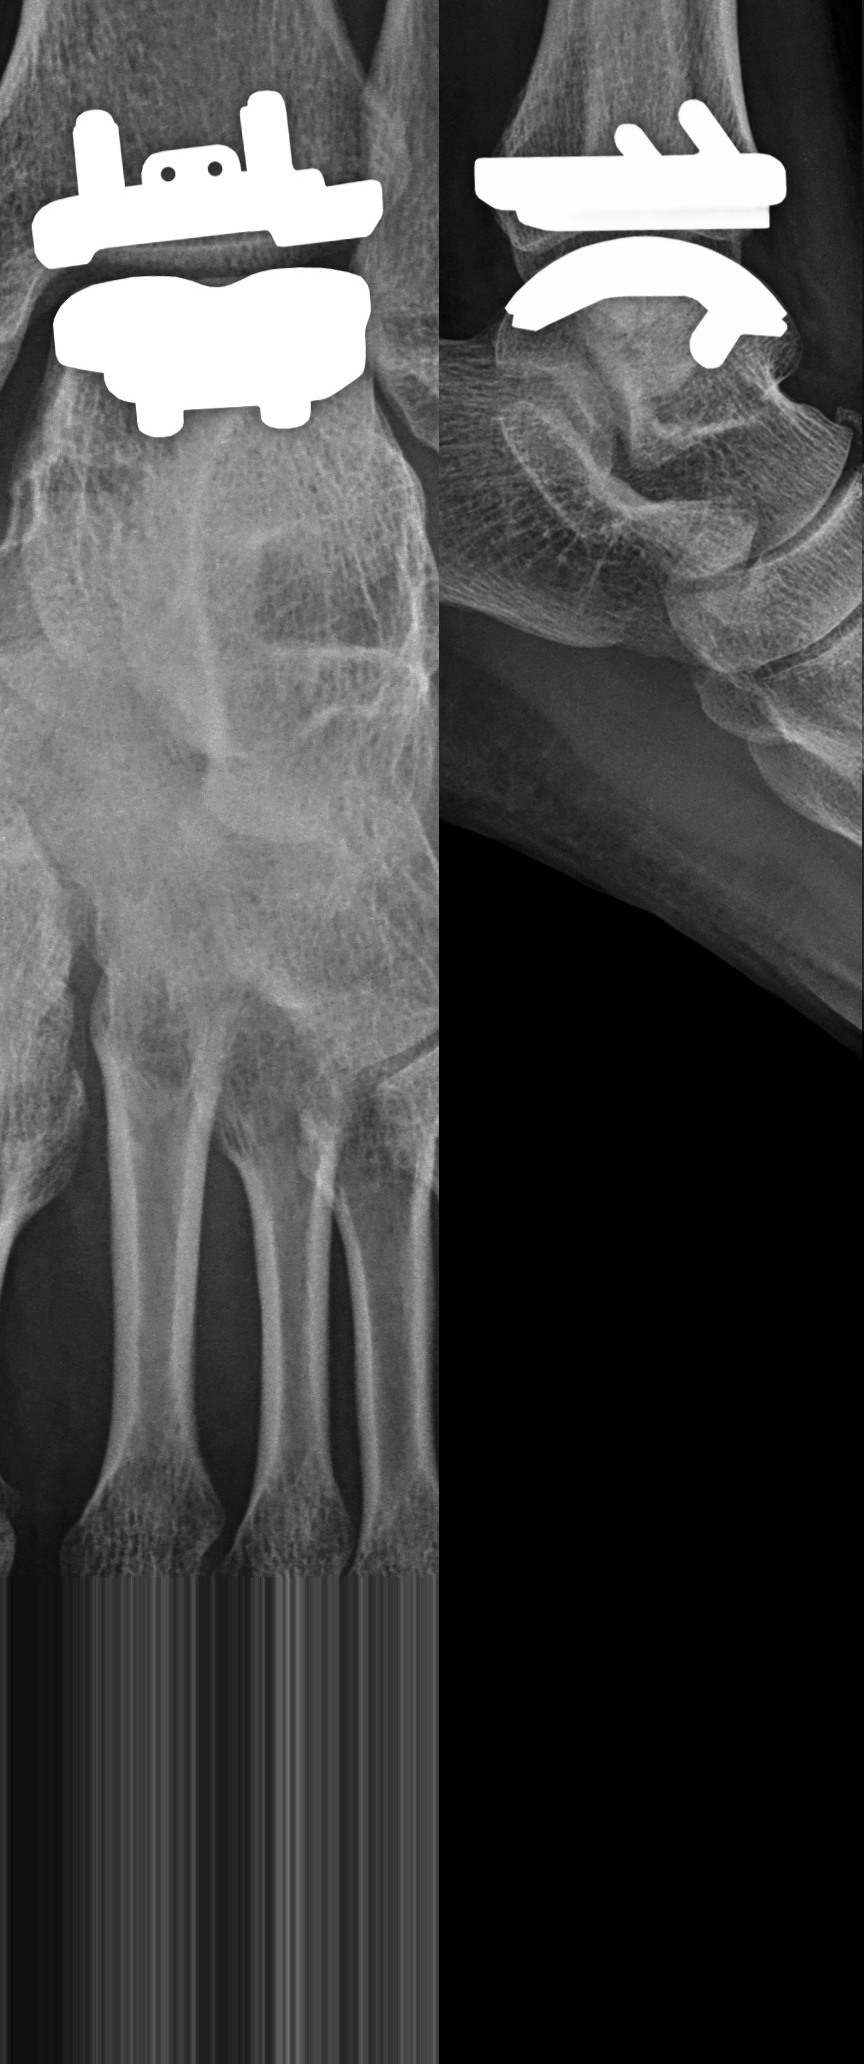Cadence-Integra: (11, 45, 404, 455), (454, 90, 815, 395)
